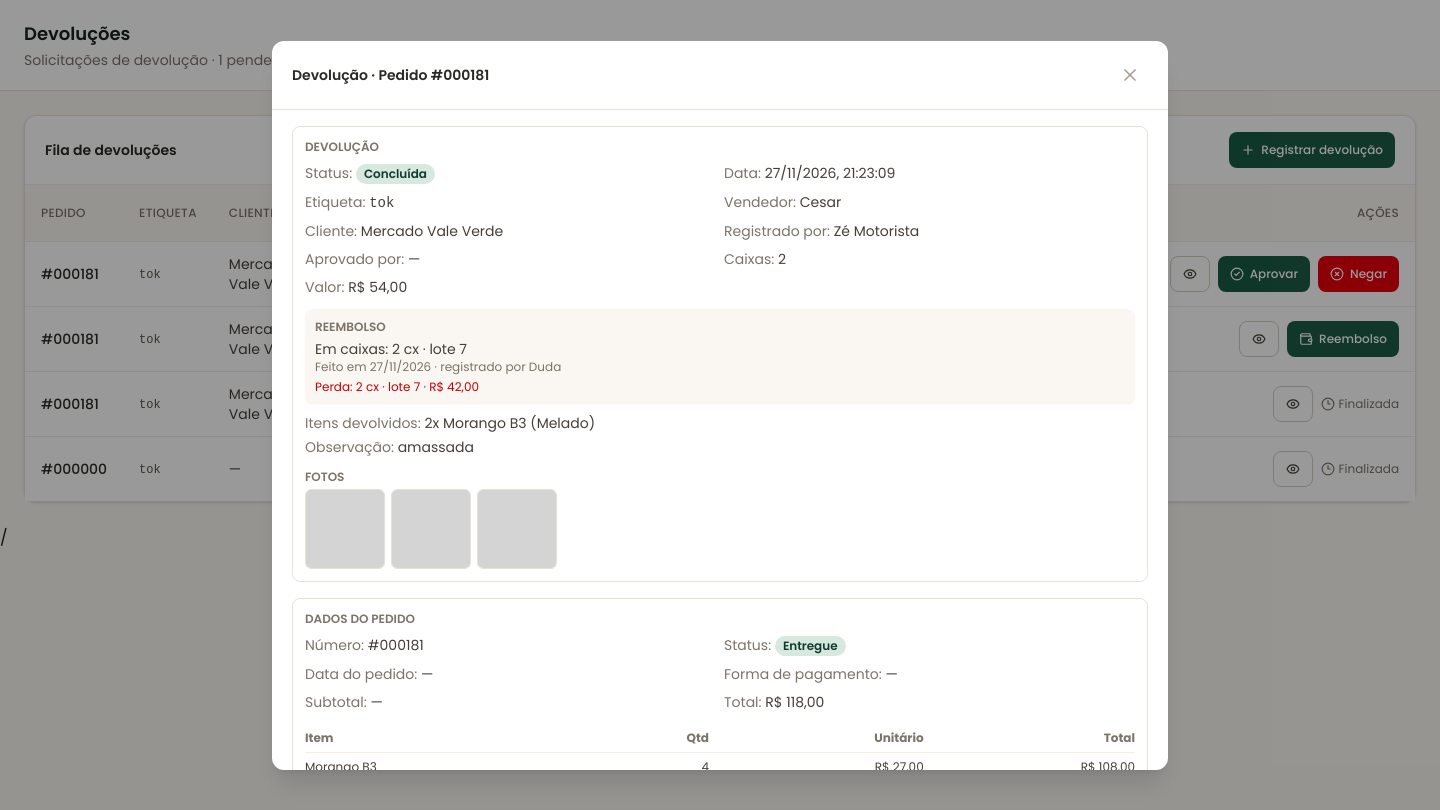
Test: Devoluções › detalhes com pedido, fotos e reembolso em caixas
Earlier steps of the test are not shown.
Expected: the text "Em caixas: 2 cx · lote 7" is shown, [315,338,467,358]
Expected: the text "Perda: 2 cx · lote 7 · R$ 42,00" is shown, [315,378,479,394]
Click the button named "Fechar": (1130, 74) [1112,56,1148,92]
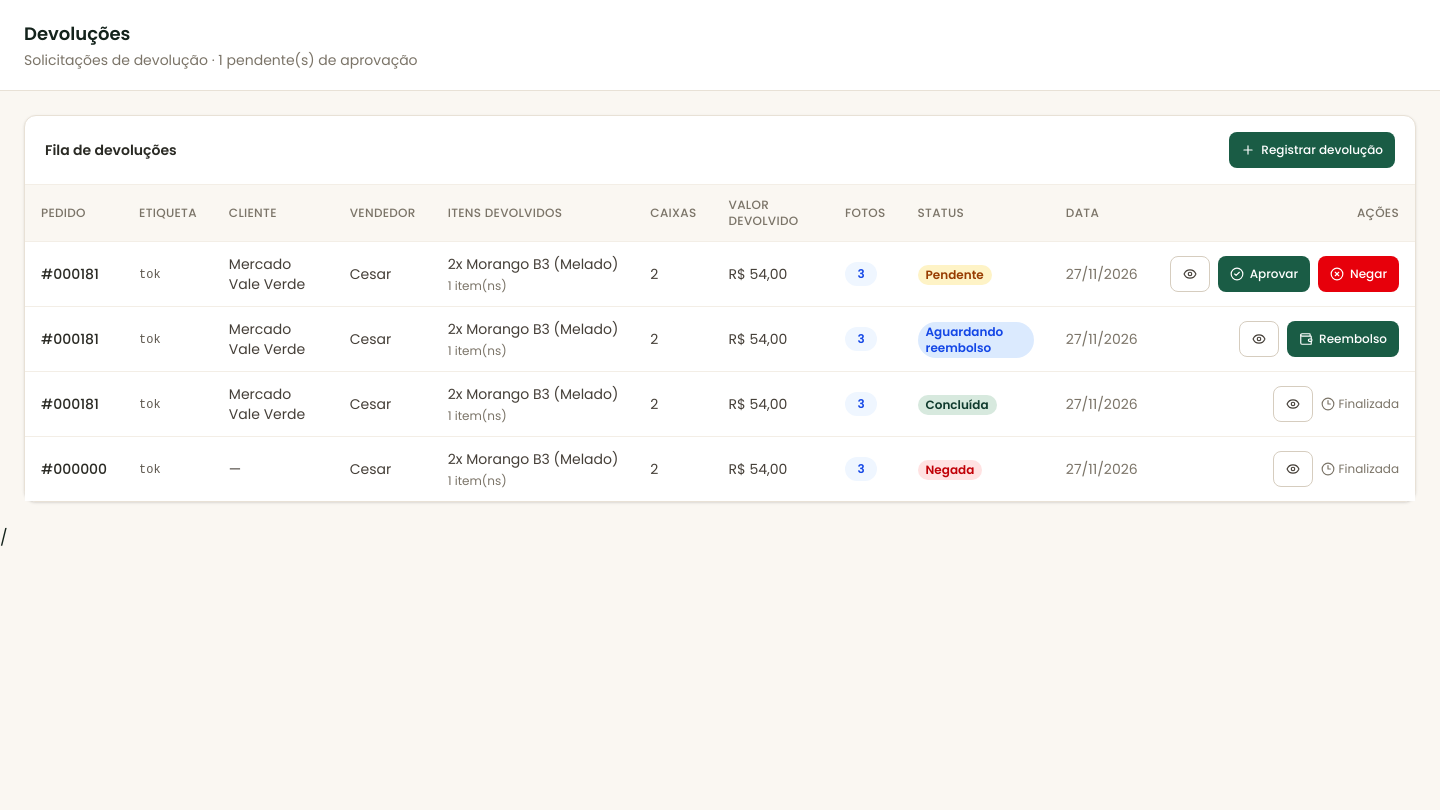
Result: the heading "Devolução · Pedido #000181" is gone
